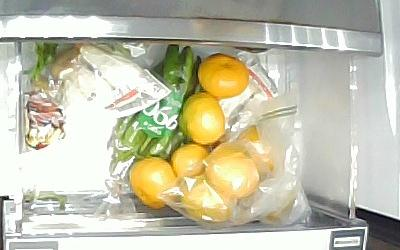tangerine: (130, 156, 177, 209), (198, 53, 252, 99), (180, 94, 227, 145), (169, 142, 210, 181)
tangerine_vinyl: (208, 150, 263, 198), (181, 179, 231, 223), (239, 127, 279, 178)
